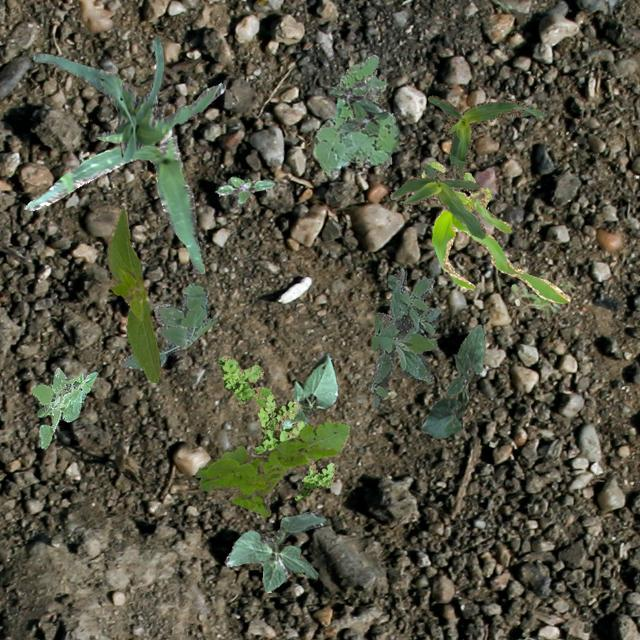crop: (25, 136, 204, 272), (32, 34, 225, 160), (421, 160, 568, 302), (426, 94, 546, 180), (106, 206, 160, 382), (224, 511, 326, 592), (421, 323, 484, 438), (388, 164, 484, 238), (280, 352, 338, 428)
weed: (218, 354, 336, 500), (194, 418, 348, 516), (314, 54, 398, 175), (370, 266, 440, 406), (122, 282, 216, 368), (29, 367, 96, 448), (510, 272, 576, 320), (328, 80, 387, 132), (214, 175, 274, 202)
